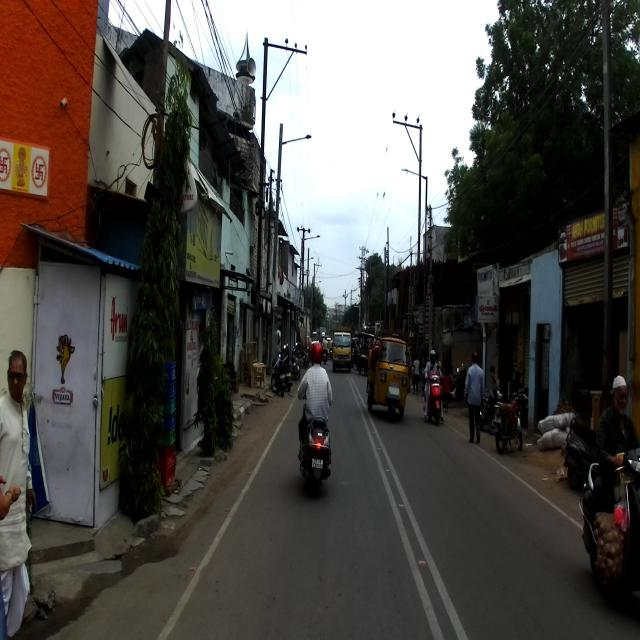autorickshaw: (365, 316, 411, 422)
motorcycle: (491, 389, 524, 455)
scooter: (578, 447, 640, 611), (297, 391, 334, 498), (421, 364, 443, 426)
truck: (332, 329, 352, 373)
